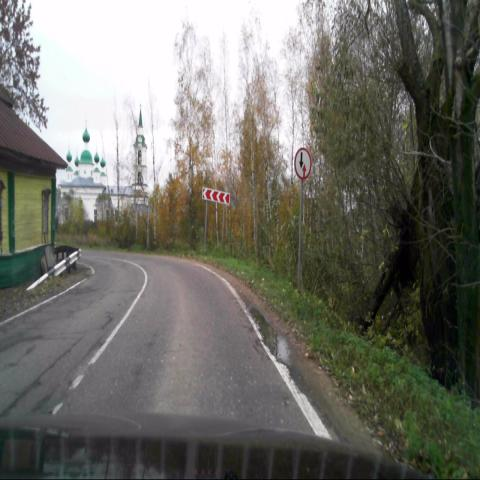2_6: (294, 148, 311, 179)
